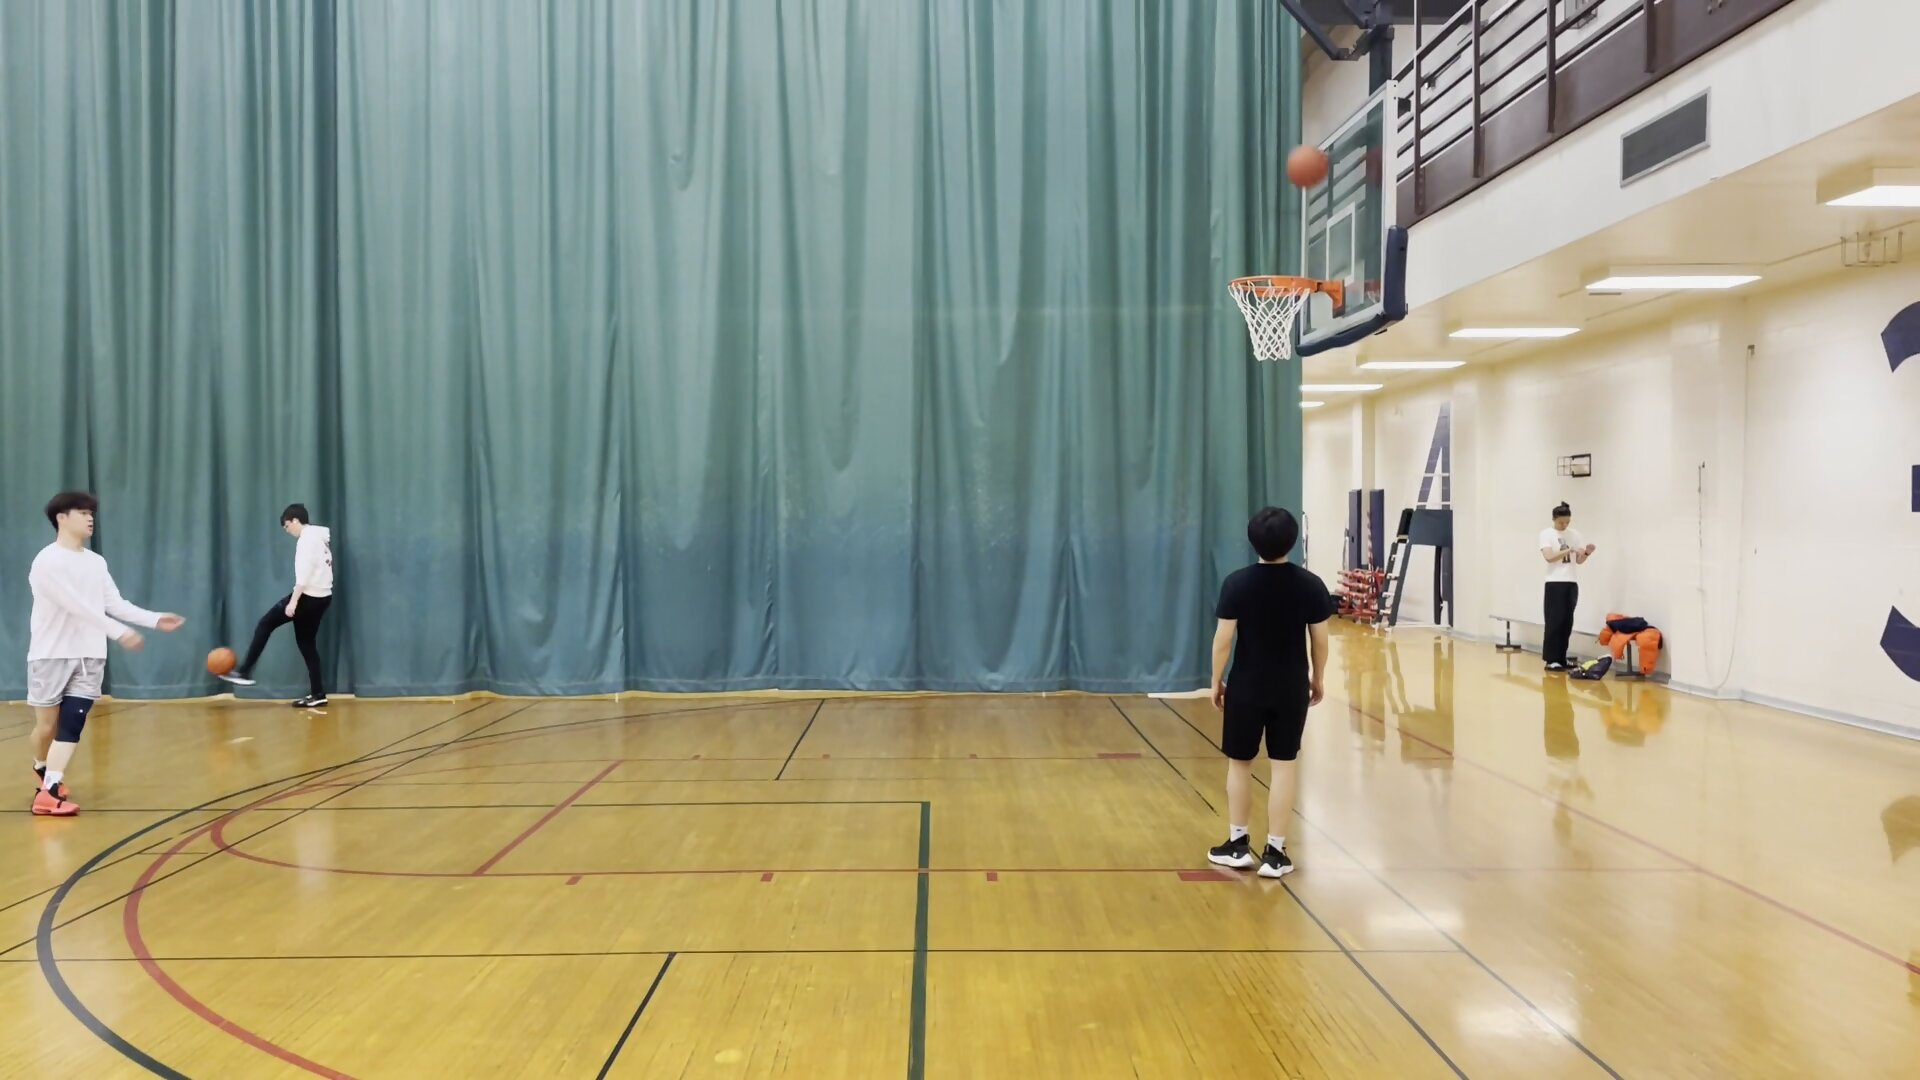ball: (1281, 141, 1339, 195), (200, 646, 241, 681)
net: (1243, 331, 1301, 365)
player: (15, 488, 186, 830), (1195, 506, 1336, 882), (224, 502, 345, 711), (1534, 500, 1595, 677)
rim: (1217, 270, 1330, 310)
